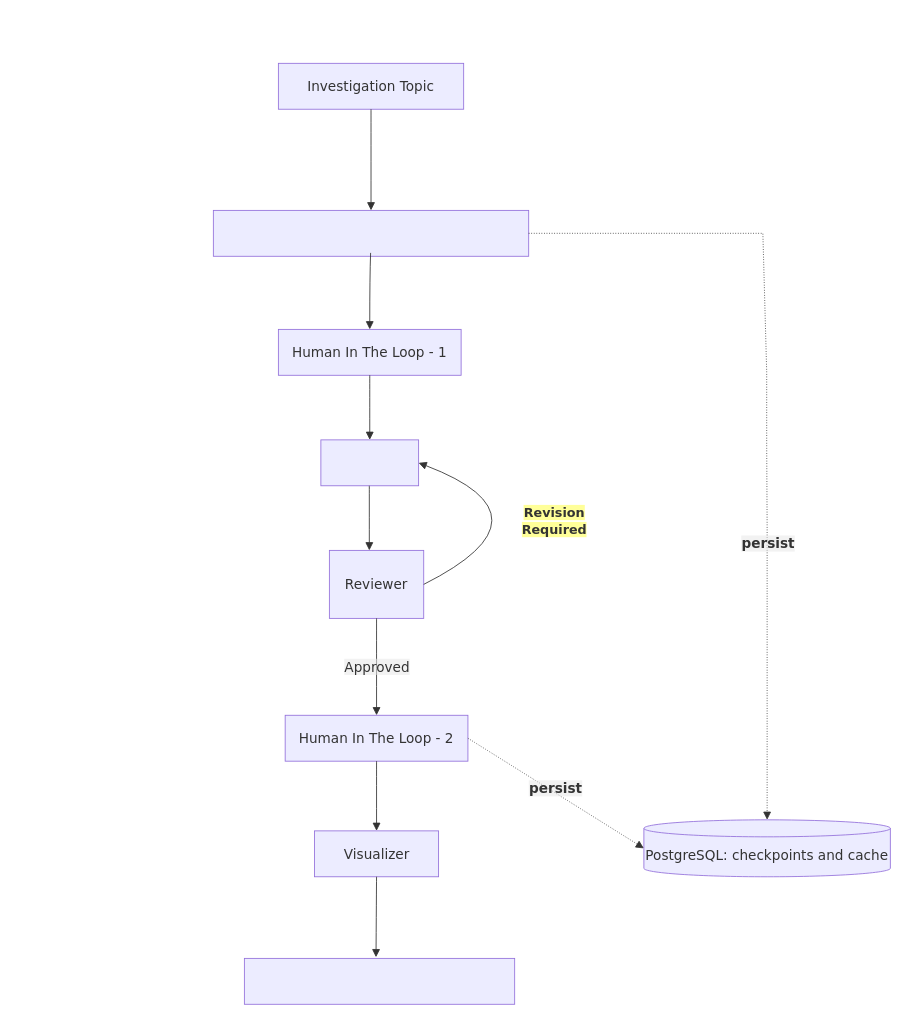
Some shapes in this 905 by 1019 pixel diagram are drawn without their labels. The shapes that lost their labels are listed below. From the top down, each one's box as (x1, y1, x2, y2) in pixels, then its label:
(212, 210, 529, 256): Searcher: arXiv + Semantic Scholar + cache
(320, 439, 419, 486): Writer
(244, 958, 515, 1004): Markdown Article + Visualizations
